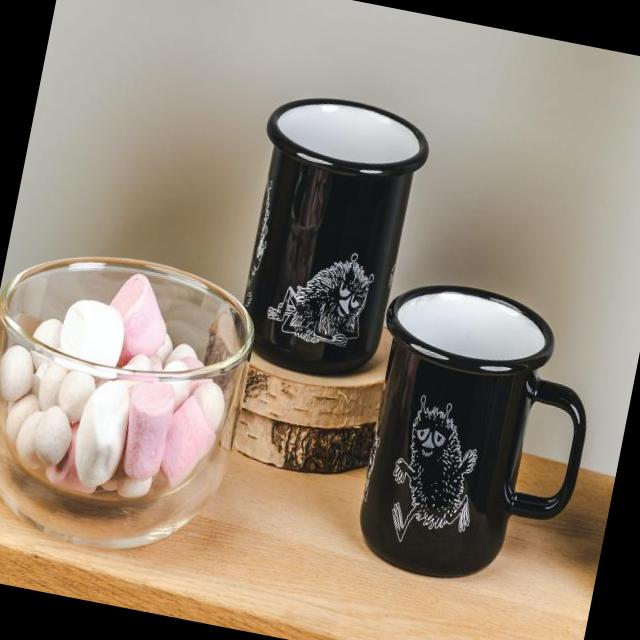Coffee Mug: (342, 271, 610, 600), (224, 86, 436, 388)
